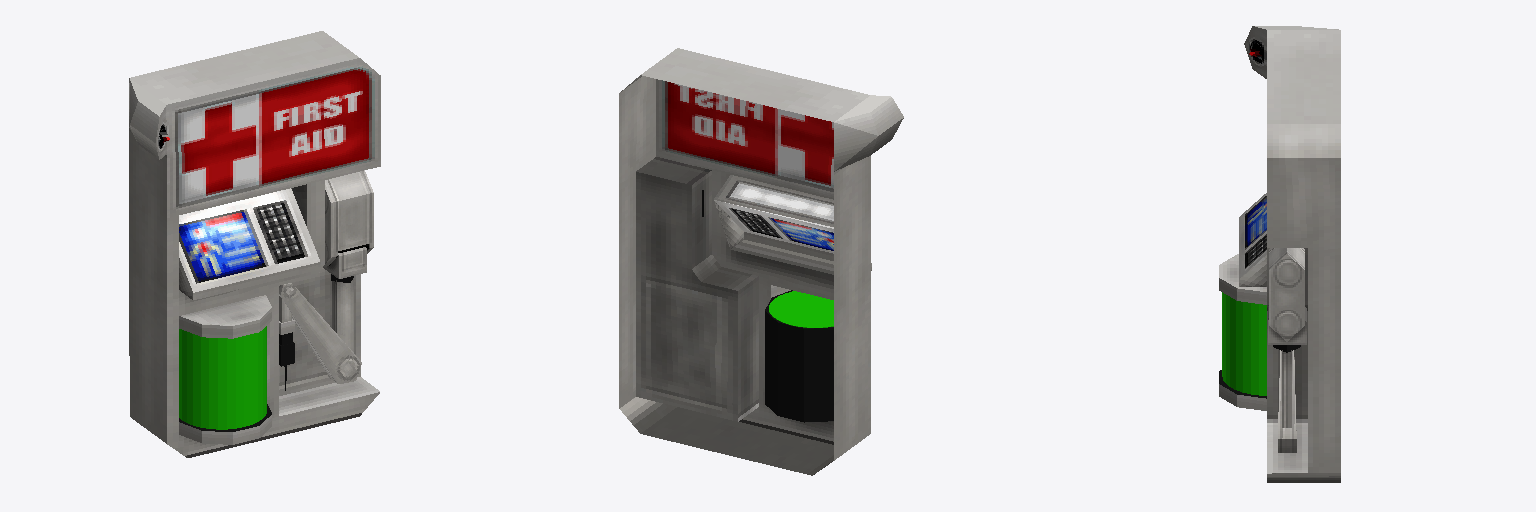
3 renders of one model, left to right at view 1: azimuth 30°, elevation 25°; view 2: azimuth 150°, elevation 25°; view 3: azimuth 270°, elevation 25°, orthographic.
Parts seen in each view (by area): view 1: health_lod1, Cylinder; view 2: health_lod1, Cylinder; view 3: health_lod1, Cylinder.
Boxes of the visible parts, box(x1,y1,x2,y2) form: health_lod1: box(129, 31, 380, 457); Cylinder: box(179, 326, 266, 429); health_lod1: box(619, 48, 903, 475); Cylinder: box(769, 291, 833, 327); health_lod1: box(1219, 26, 1340, 482); Cylinder: box(1222, 292, 1266, 395).
Size of the model in its own units: 16.57 by 24 by 7.37.
5 materials, 4 textured.